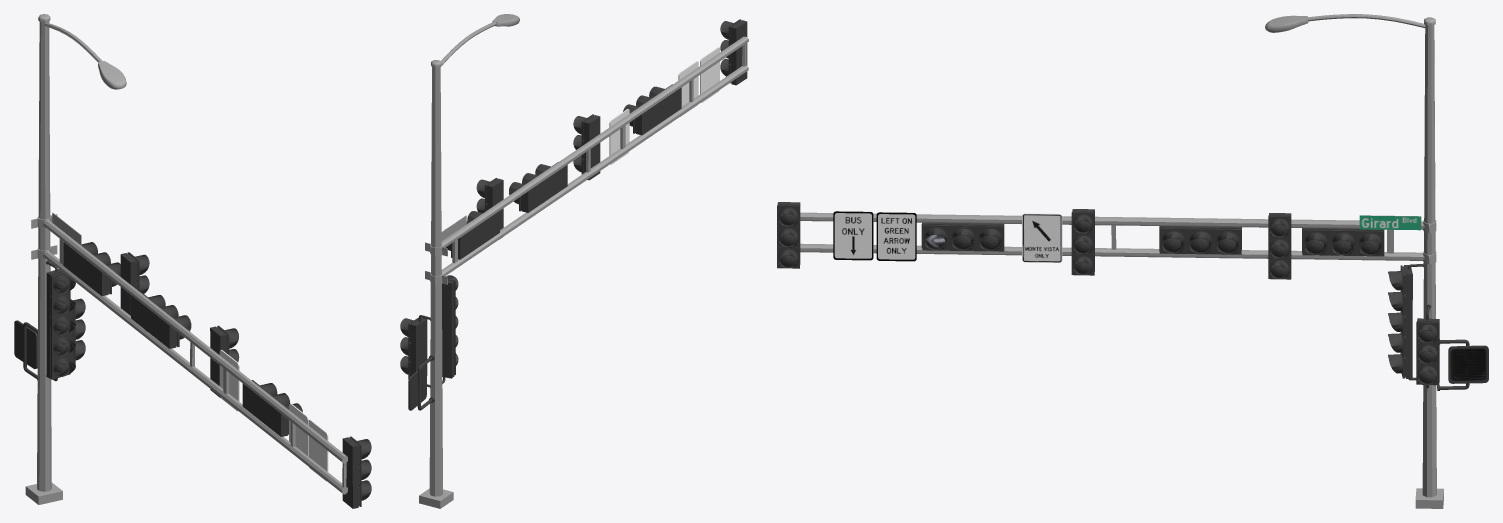
File: Light4.fbx
3 renders of one model, left to right at view 1: azimuth 30°, elevation 25°; view 2: azimuth 150°, elevation 25°; view 3: azimuth 270°, elevation 25°, orthographic. The views are drawn at different scales.
Parts seen in each view (by area): view 1: Traffic Lights.016; view 2: Traffic Lights.016; view 3: Traffic Lights.016.
Part boxes in pixels (x1=…): Traffic Lights.016: x1=14, y1=14, x2=371, y2=508; Traffic Lights.016: x1=400, y1=14, x2=748, y2=508; Traffic Lights.016: x1=777, y1=14, x2=1488, y2=508.
Size of the model in its own units: 139 by 1094 by 1447.
